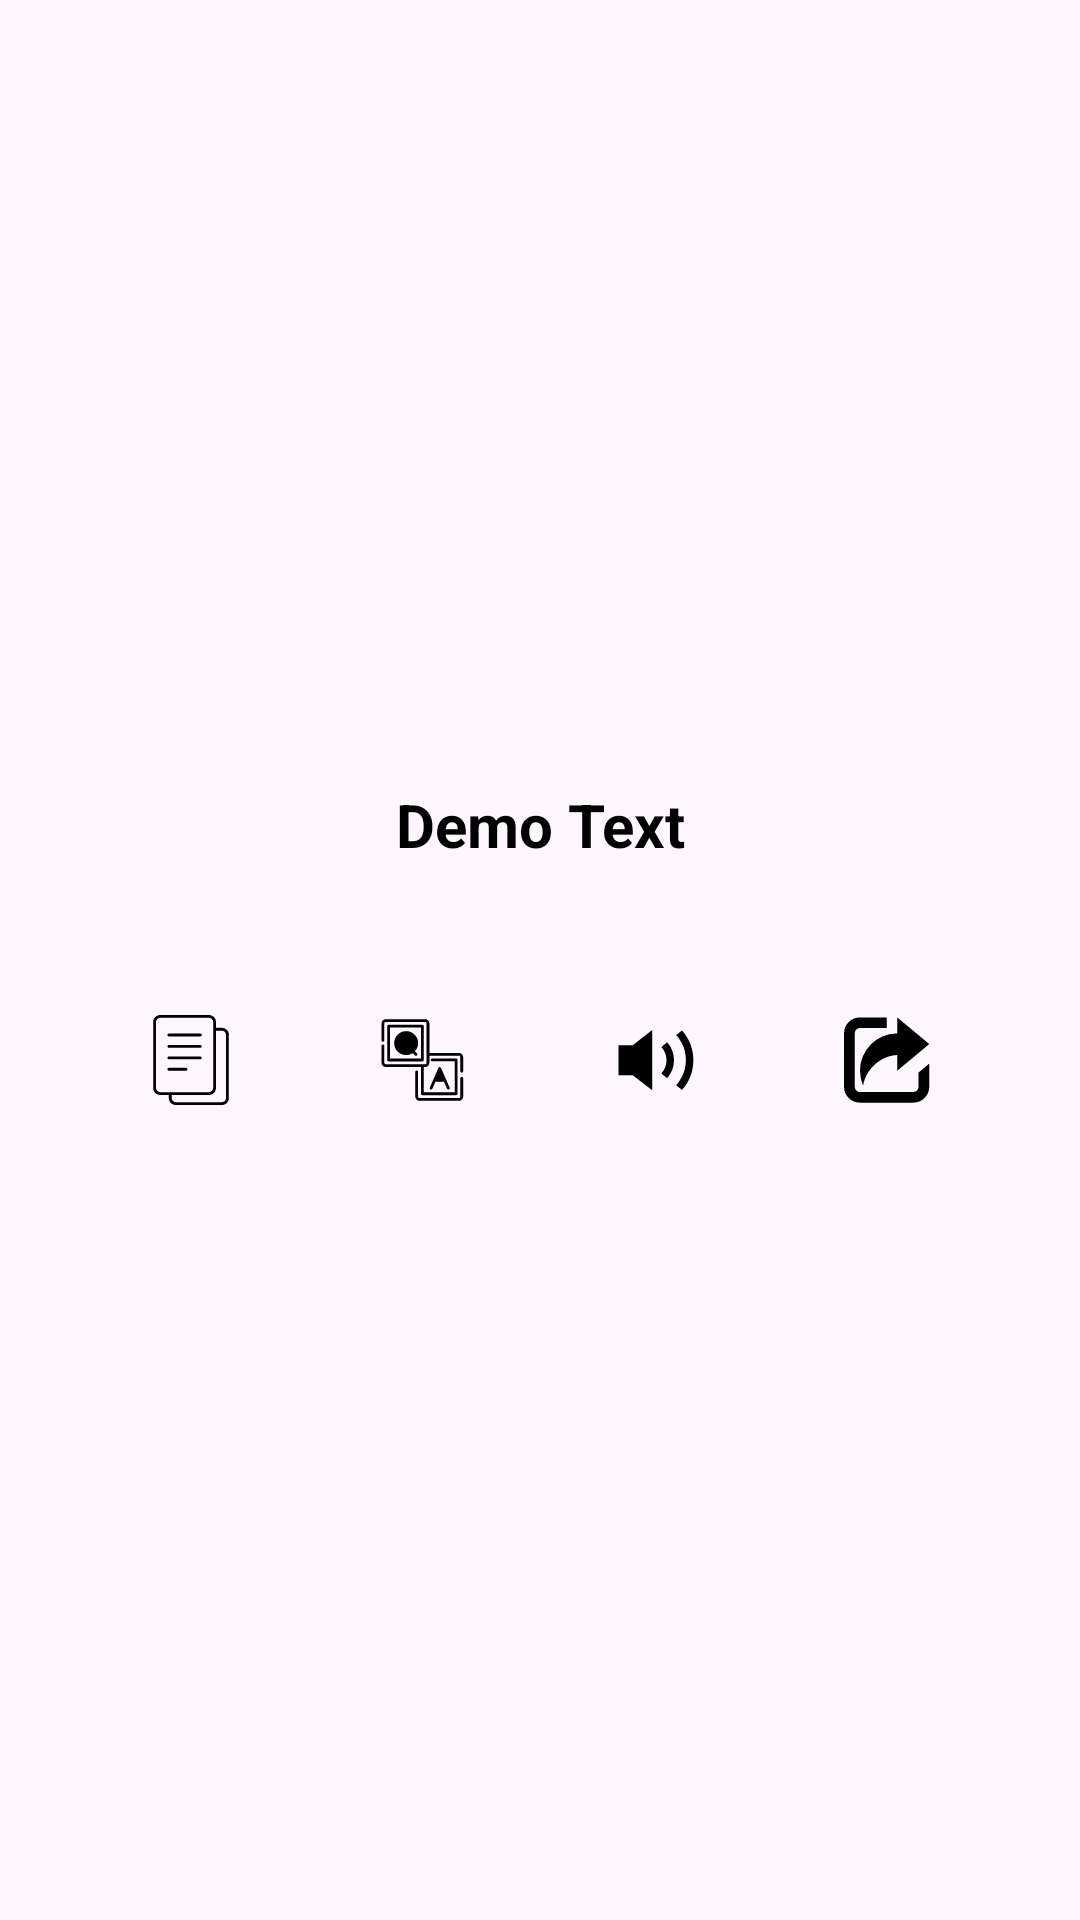

Icon bounding boxes for this 1080px×1920px phone screenshot, format region(x1, y1, x2, y2):
share: region(844, 1017, 930, 1103)
sound: region(618, 1030, 694, 1090)
